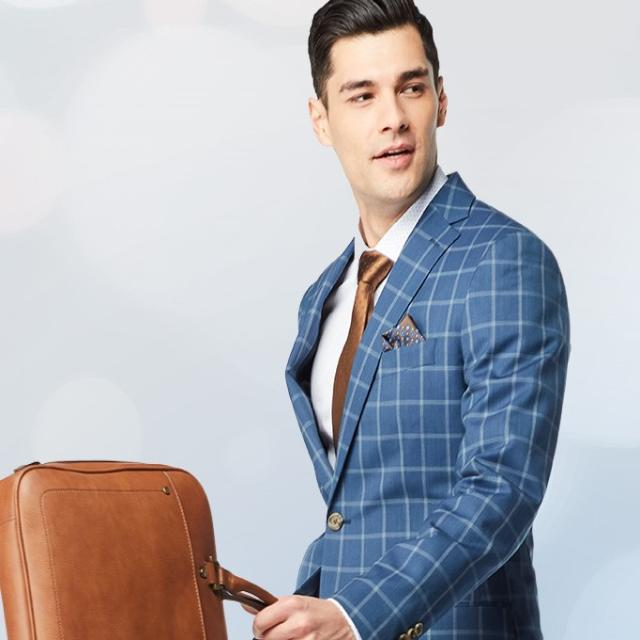human: (214, 0, 576, 640)
